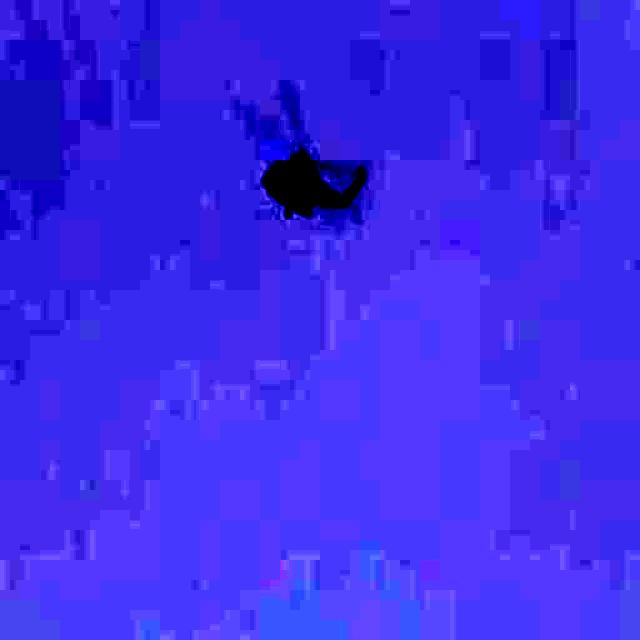drone: (252, 100, 384, 256)
